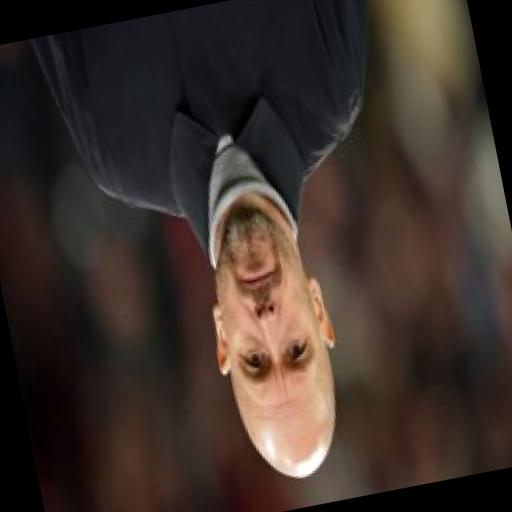human: (30, 0, 468, 510)
